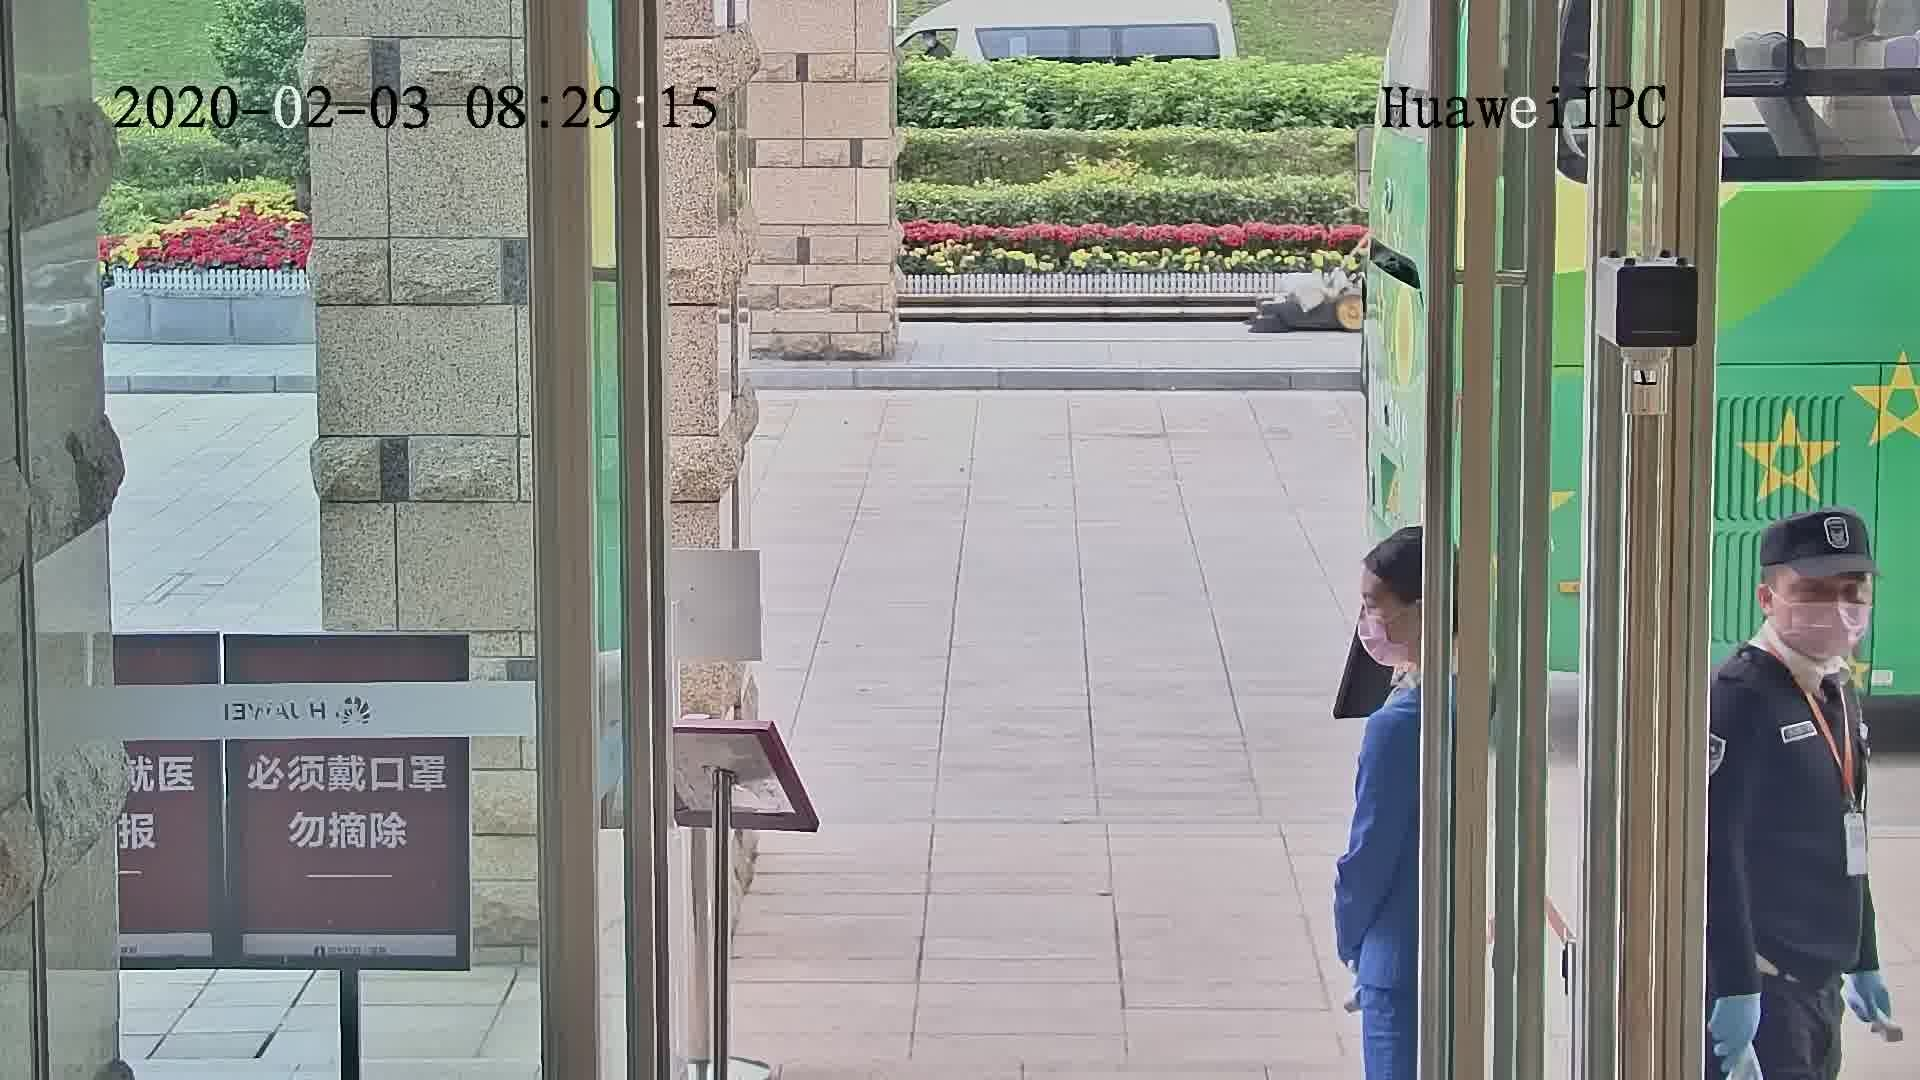face: (1778, 563, 1872, 656), (1354, 569, 1425, 675)
mask: (1774, 595, 1869, 658), (1356, 609, 1418, 671)
person: (1706, 507, 1874, 763), (1347, 520, 1435, 768)
